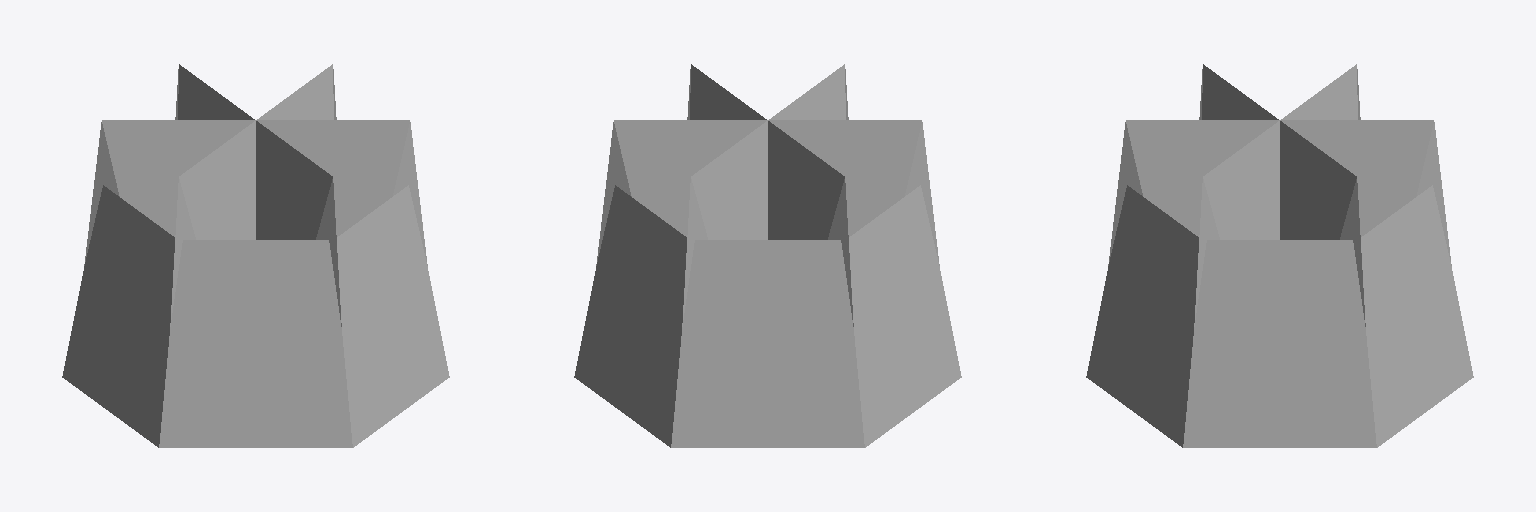
The model's file is brazier_of_hoarding_fire.obj.
3 views of the same model, side by side, from view 1: azimuth 30°, elevation 25°; view 2: azimuth 150°, elevation 25°; view 3: azimuth 270°, elevation 25° (orthographic).
Visible parts, largest first — view 1: FireRing_Torus, FireCenter2, FireCenter1, FireCenter3; view 2: FireRing_Torus, FireCenter3, FireCenter1, FireCenter2; view 3: FireRing_Torus, FireCenter1, FireCenter2, FireCenter3.
Part boxes in pixels (bbox=[...]): FireRing_Torus: bbox=[62, 185, 449, 447]; FireCenter2: bbox=[84, 120, 427, 265]; FireCenter1: bbox=[175, 64, 341, 326]; FireCenter3: bbox=[170, 64, 336, 326]; FireRing_Torus: bbox=[574, 185, 961, 447]; FireCenter3: bbox=[596, 120, 939, 265]; FireCenter1: bbox=[682, 64, 848, 326]; FireCenter2: bbox=[687, 64, 853, 326]; FireRing_Torus: bbox=[1086, 185, 1473, 447]; FireCenter1: bbox=[1108, 120, 1451, 265]; FireCenter2: bbox=[1194, 64, 1360, 326]; FireCenter3: bbox=[1199, 64, 1365, 326].
Bounding box in the file's own units: 0.6037 × 0.5384 × 0.6971.